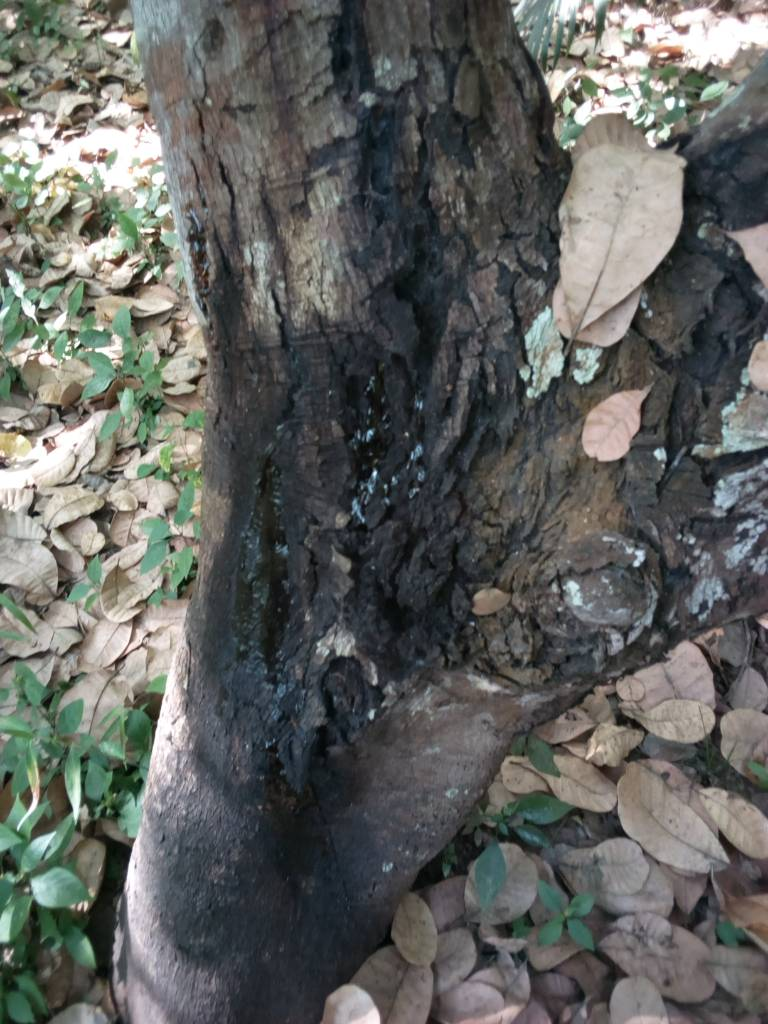Gommose: (207, 189, 480, 833)
